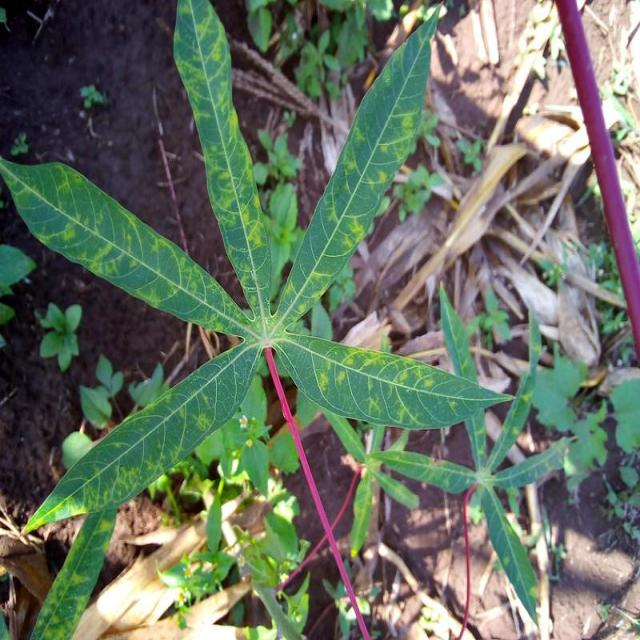cassava leaf: (1, 0, 517, 637), (272, 2, 445, 332), (171, 0, 273, 319), (270, 330, 514, 431)
